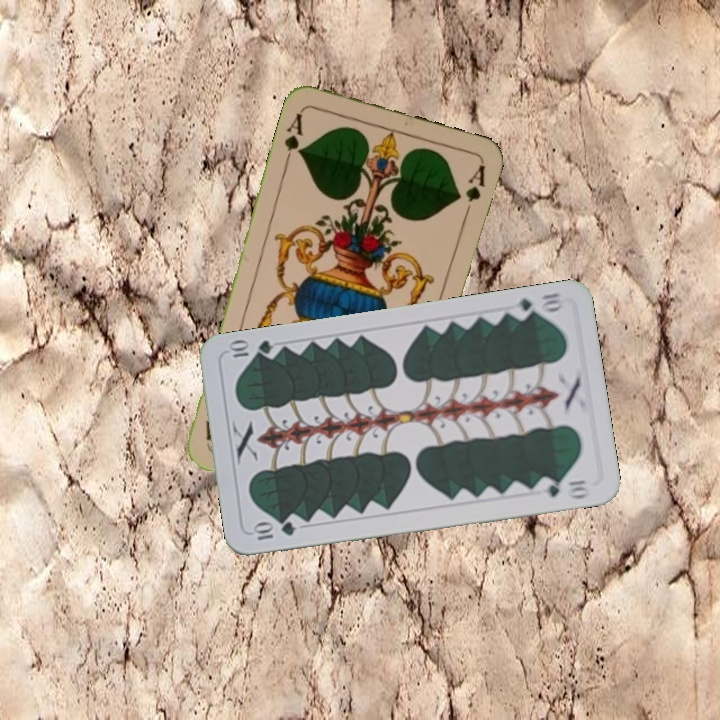G10: (507, 288, 567, 322), (249, 518, 298, 543)
GA: (280, 107, 306, 165)
